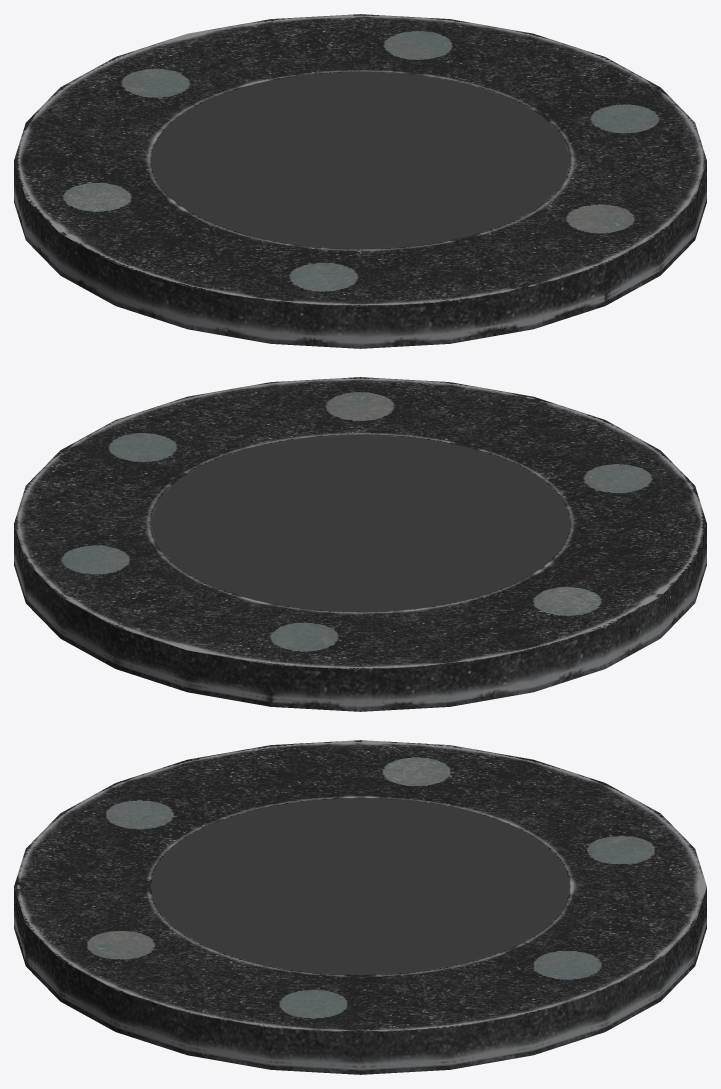
File: SM_FloorLight.FBX
3 renders of one model, top to bottom at view 1: azimuth 30°, elevation 25°; view 2: azimuth 150°, elevation 25°; view 3: azimuth 270°, elevation 25°, orthographic.
Visible parts, largest first — view 1: SM_FloorLight; view 2: SM_FloorLight; view 3: SM_FloorLight.
Boxes of the visible parts, x1,y1,x2,y2 form: SM_FloorLight: [14, 14, 706, 348]; SM_FloorLight: [14, 377, 706, 711]; SM_FloorLight: [14, 740, 706, 1074].
Bounding box in the file's own units: 37.43 × 37.43 × 2.5.
